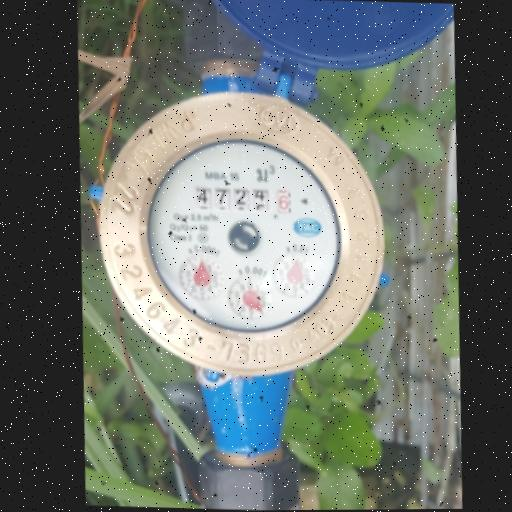2: (234, 189, 249, 210)
4: (195, 188, 212, 209), (253, 190, 270, 211)
6: (276, 189, 291, 212)
7: (214, 188, 230, 209)
border_water_meter_number: (192, 184, 293, 214)
